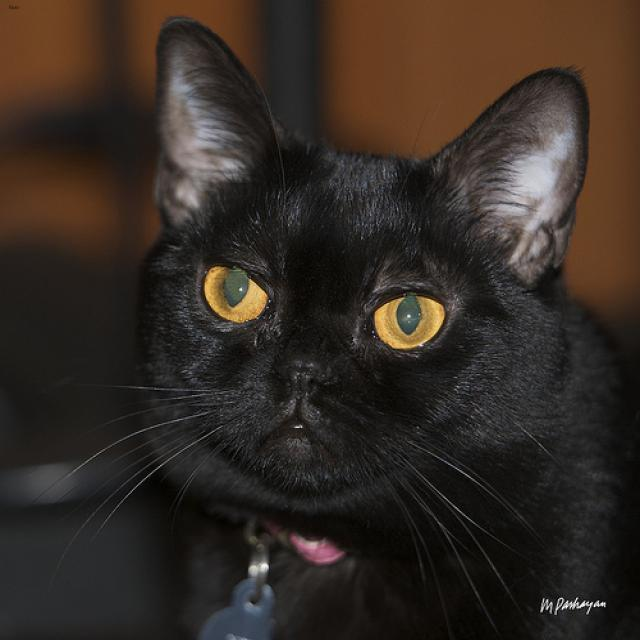cat: (153, 13, 586, 485)
